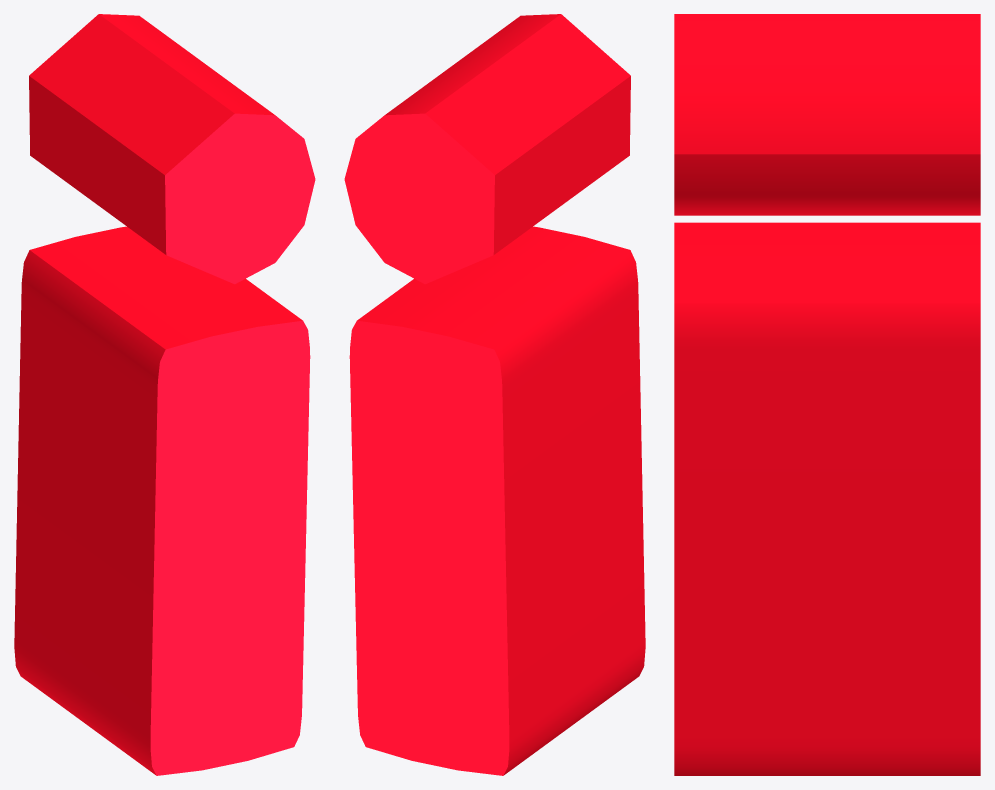
File: I_Zyzol_Red.glb
The picture shows the model from 3 angles, left to right: view 1: azimuth 30°, elevation 25°; view 2: azimuth 150°, elevation 25°; view 3: azimuth 270°, elevation 25°; orthographic projection. The views are drawn at different scales.
Parts seen in each view (by area): view 1: i_Zyzol_Red; view 2: i_Zyzol_Red; view 3: i_Zyzol_Red.
Part boxes in pixels (<box>): i_Zyzol_Red: <box>14,14,315,775</box>; i_Zyzol_Red: <box>344,14,645,775</box>; i_Zyzol_Red: <box>674,14,980,775</box>.
Size of what is drawn, in the model's own units: 0.0315 by 0.1187 by 0.045.
2 materials, 2 textured.
